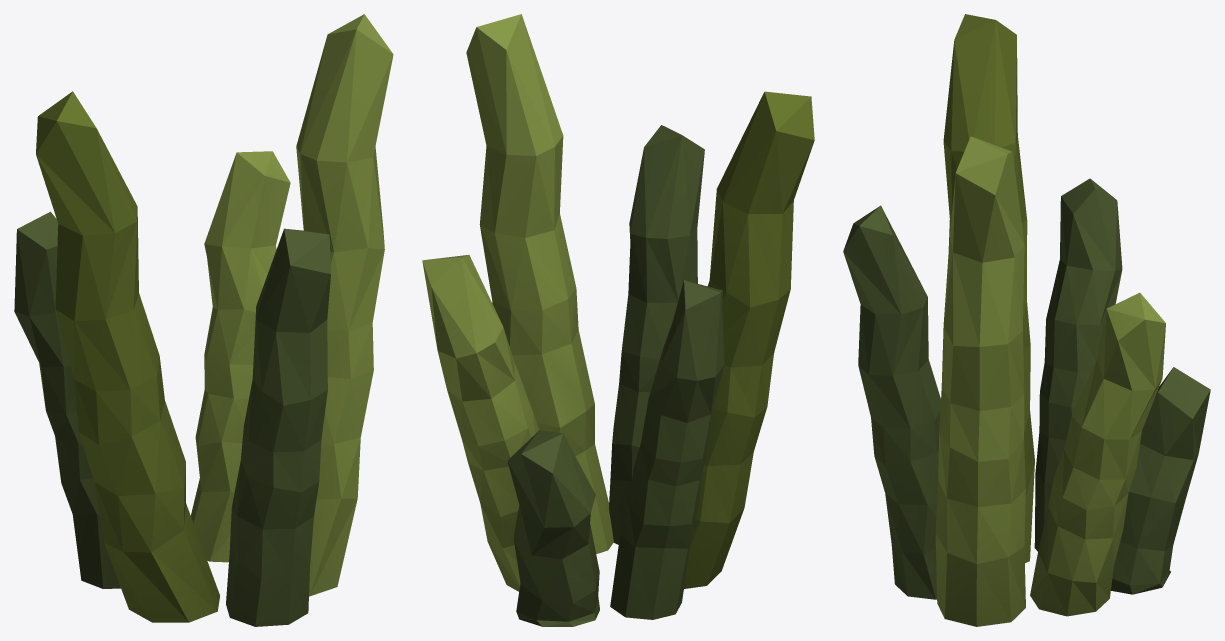
The model's file is swamp_grass_b.glb.
The picture shows the model from 3 angles, left to right: view 1: azimuth 30°, elevation 25°; view 2: azimuth 150°, elevation 25°; view 3: azimuth 270°, elevation 25°; orthographic projection. The views are drawn at different scales.
Size of the model in its own units: 0.6278 by 0.9 by 0.6011.
